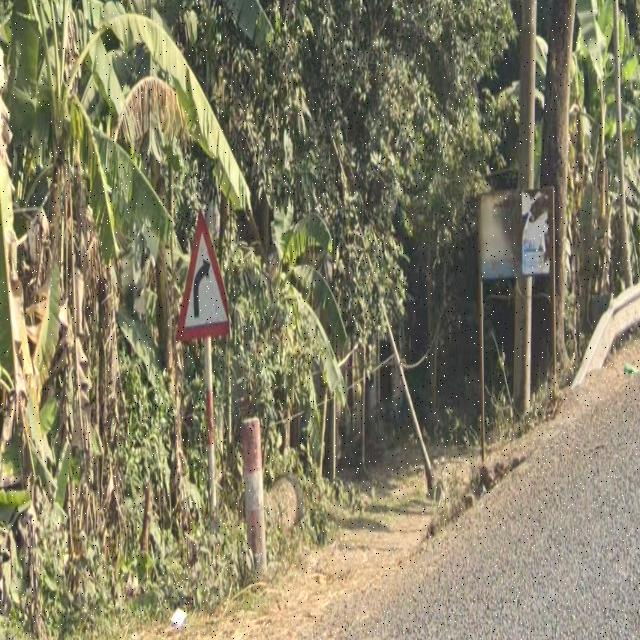Right-turn: (175, 208, 230, 343)
